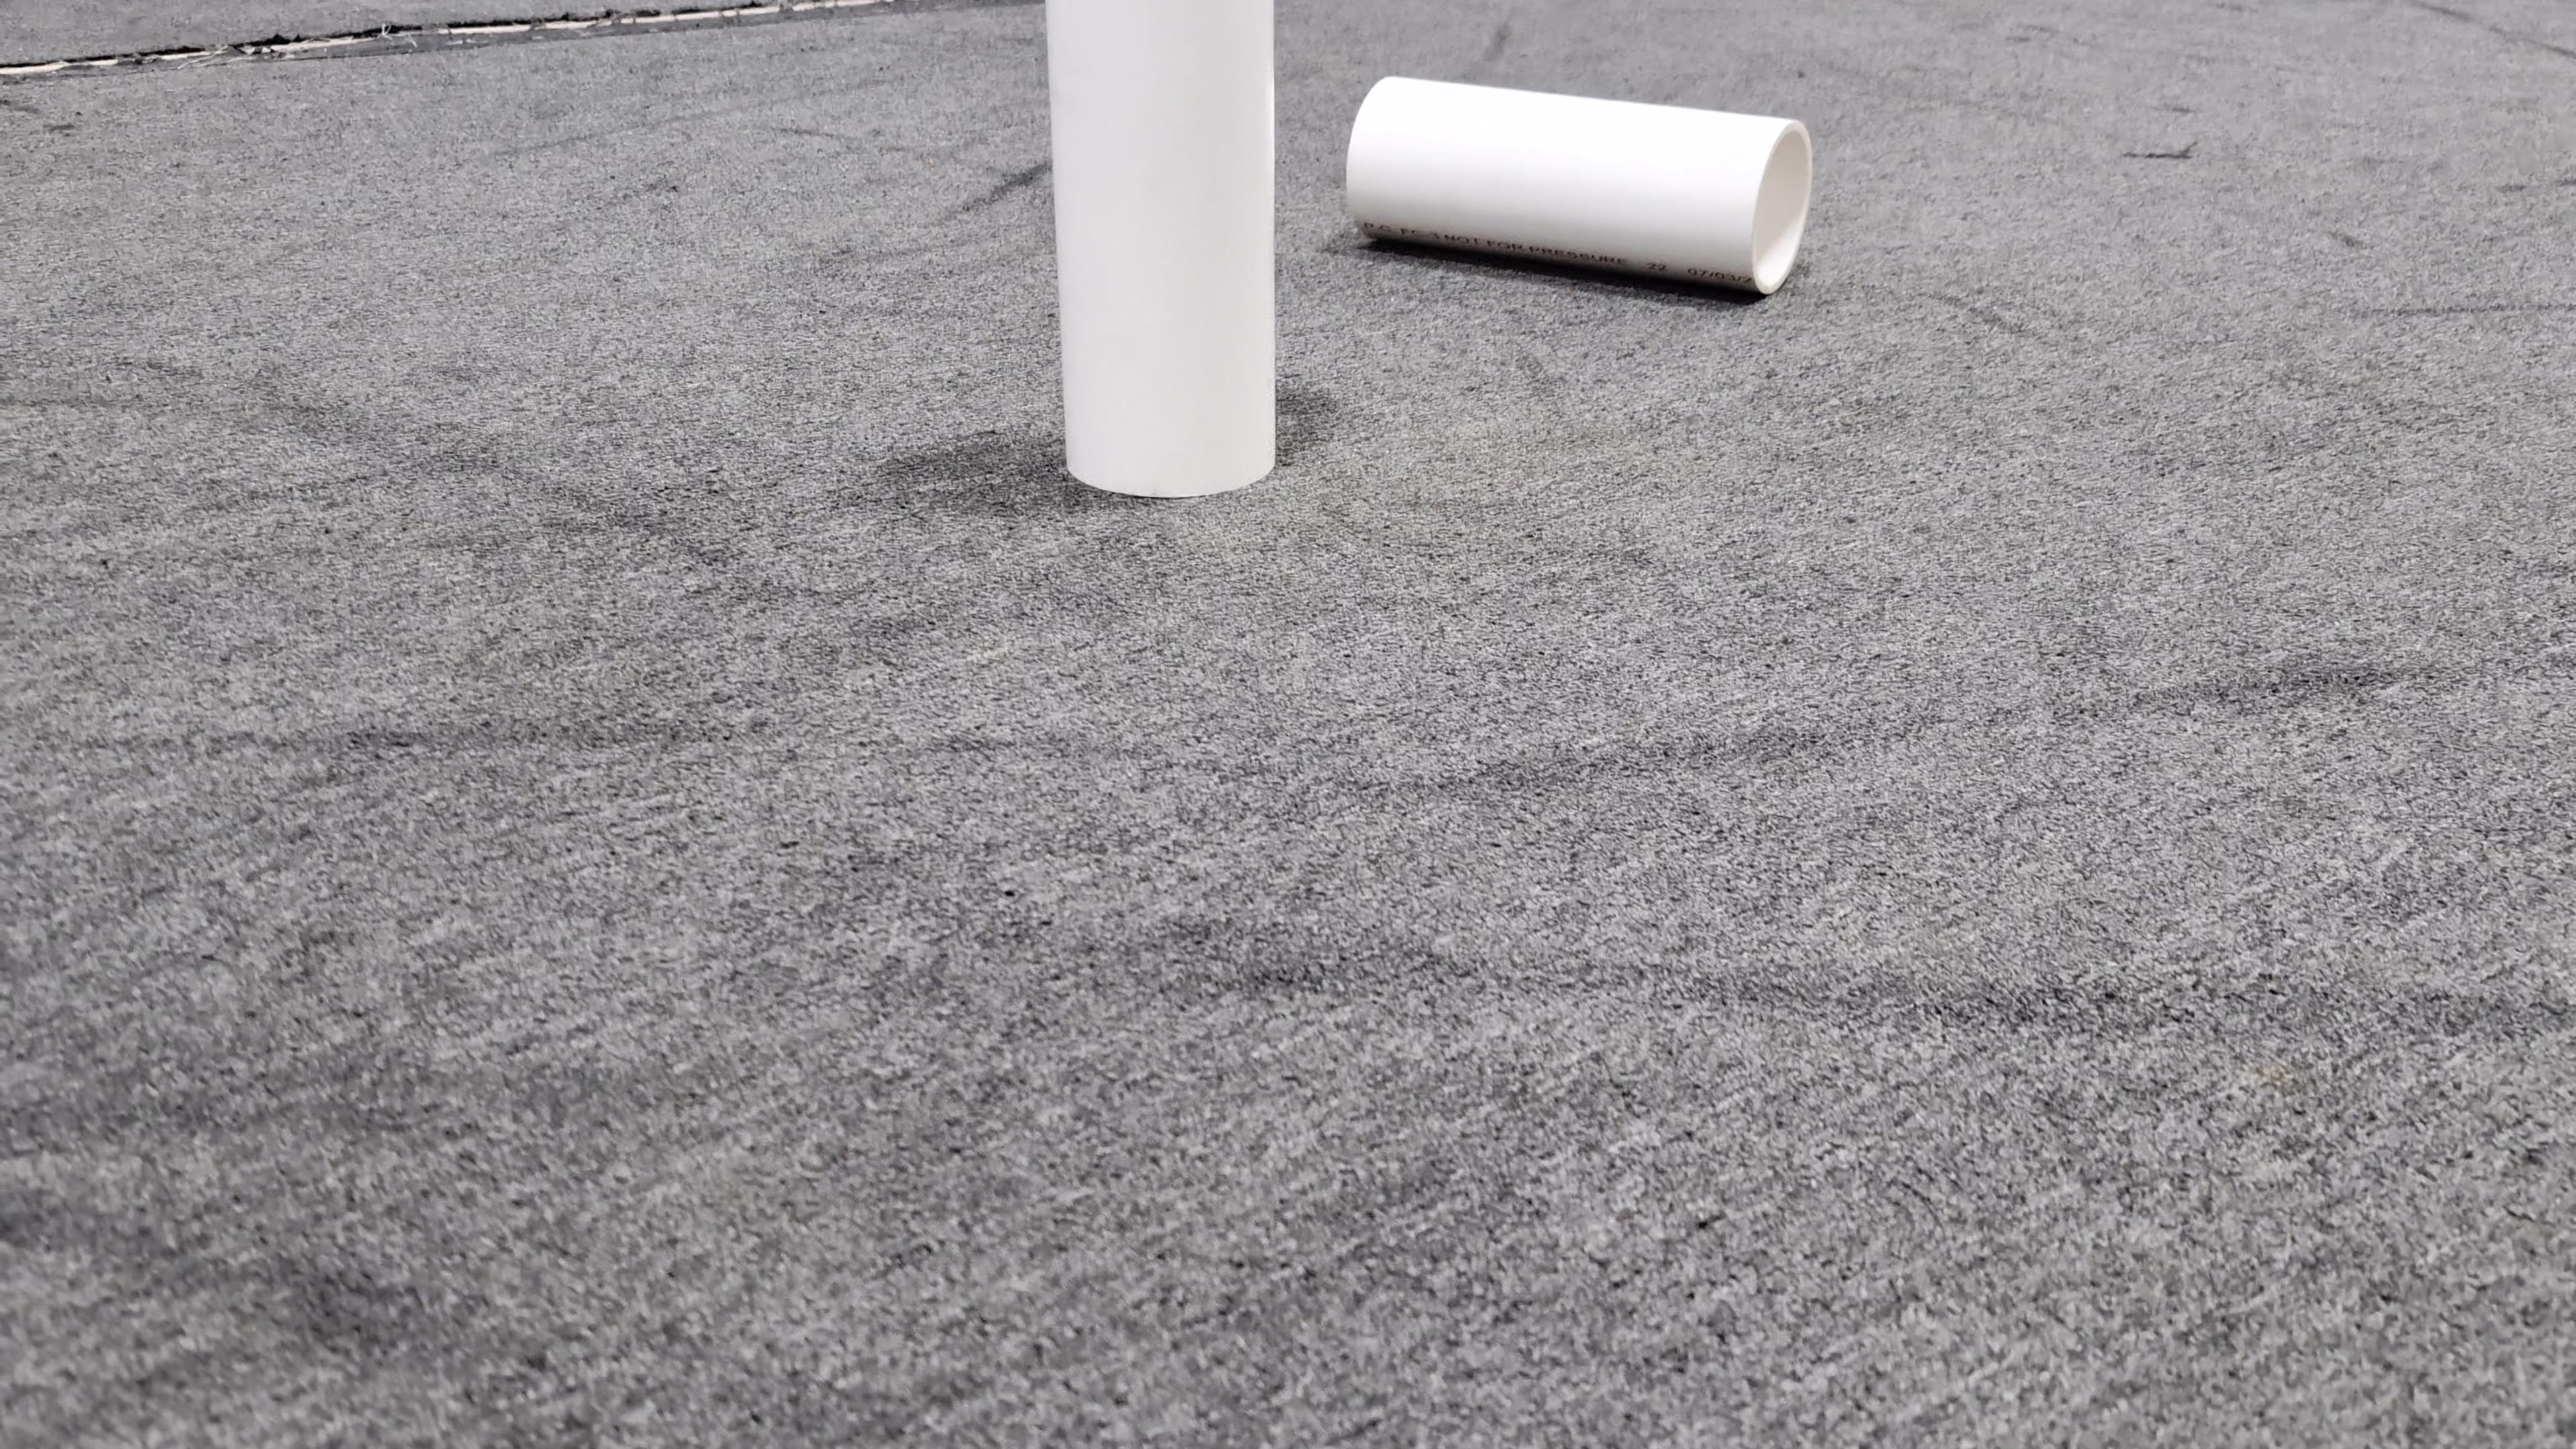coral: (1037, 0, 1283, 494), (1345, 69, 1815, 292)
